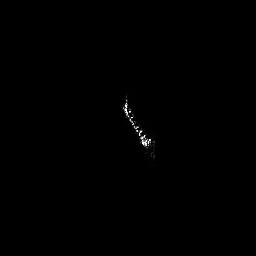ship: (120, 95, 157, 160)
